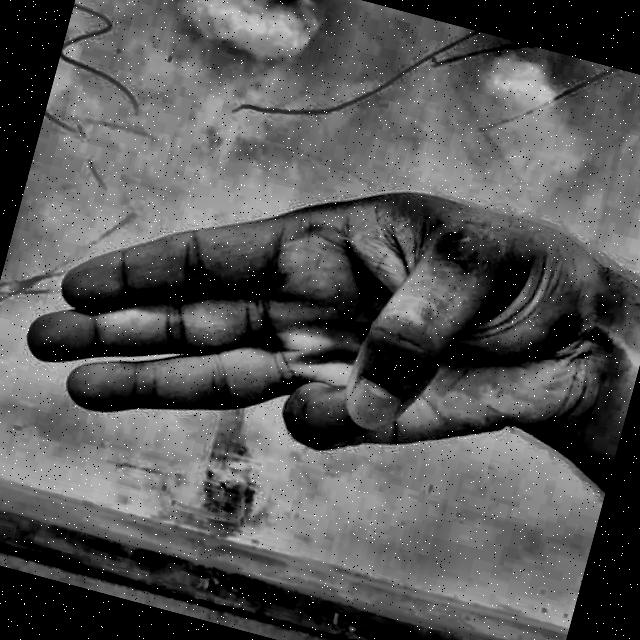Ma: (0, 76, 640, 572)
